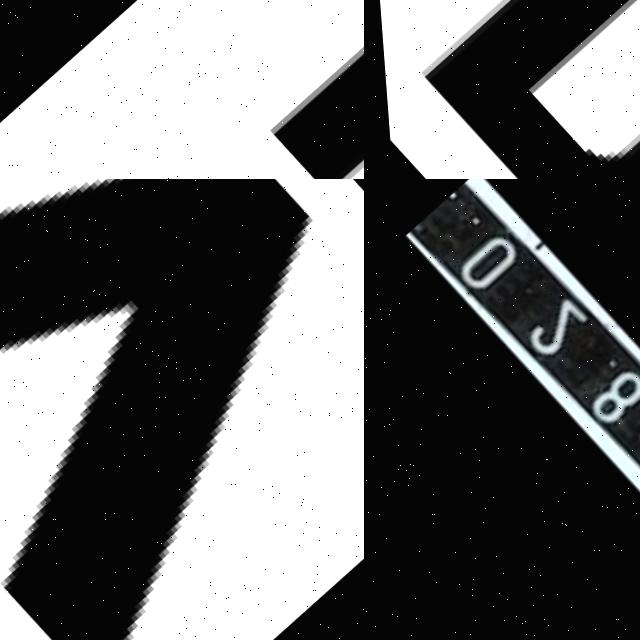0: (443, 227, 523, 298)
2: (509, 291, 587, 362)
8: (571, 359, 640, 431)
D: (387, 0, 640, 179)
S: (0, 12, 364, 179)
V: (0, 179, 364, 640)
